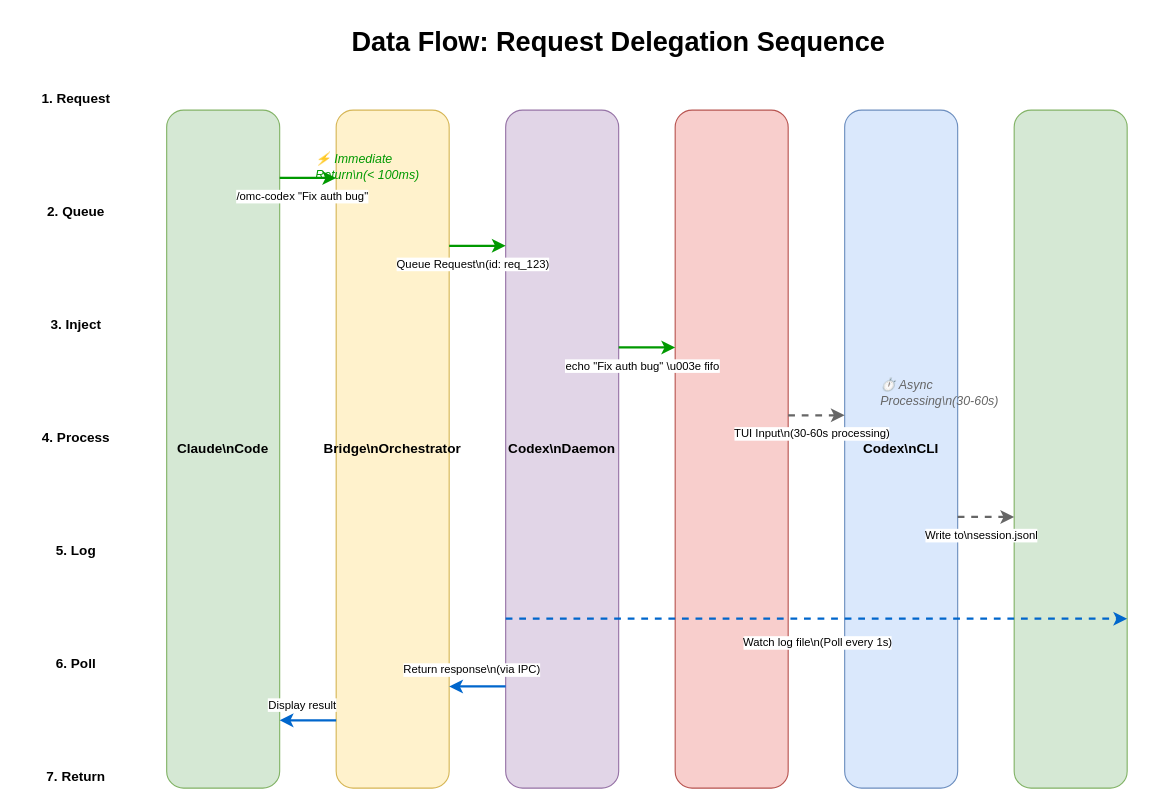
This 1156x808 diagram has some shape labels left out. Each missing label, with the centre of its shape:
"Storage\nAdapter" goes at pixel 1070 448.
"Tmux\nPane" goes at pixel 731 448.
